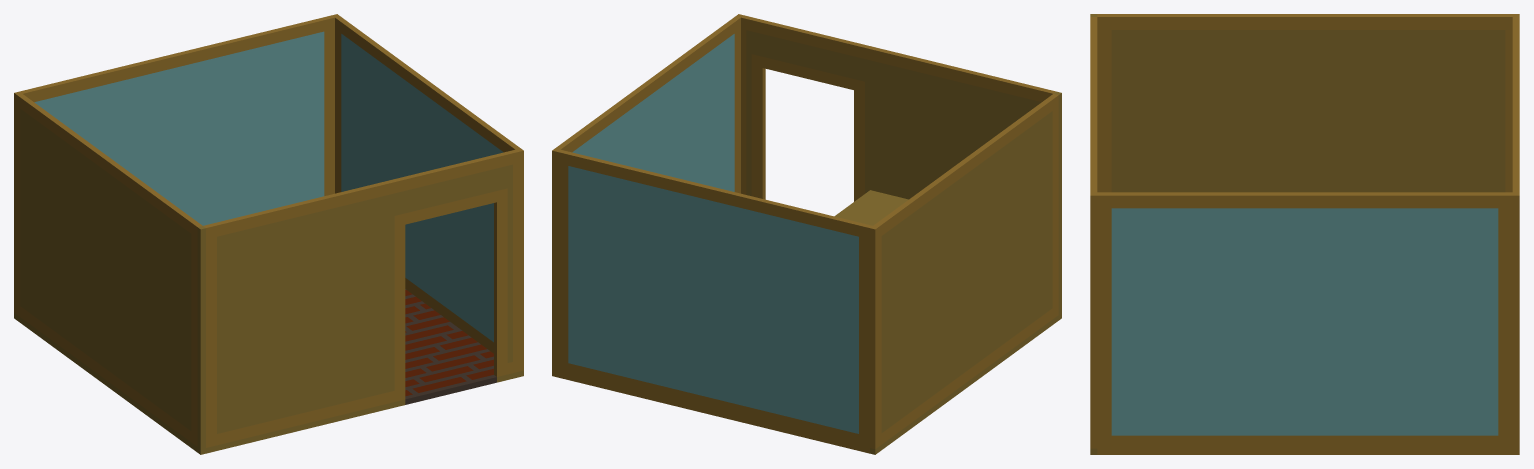
File: tea room.obj
The picture shows the model from 3 angles, left to right: view 1: azimuth 30°, elevation 25°; view 2: azimuth 150°, elevation 25°; view 3: azimuth 270°, elevation 25°; orthographic projection. The views are drawn at different scales.
Size of the model in its own units: 6 by 4 by 6.
Materials: 1 (1 with a texture image).
